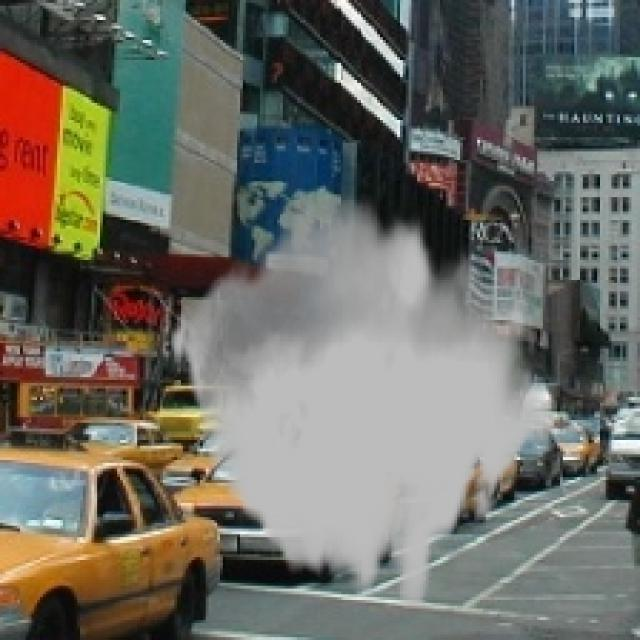Smoke: (168, 194, 554, 609)
